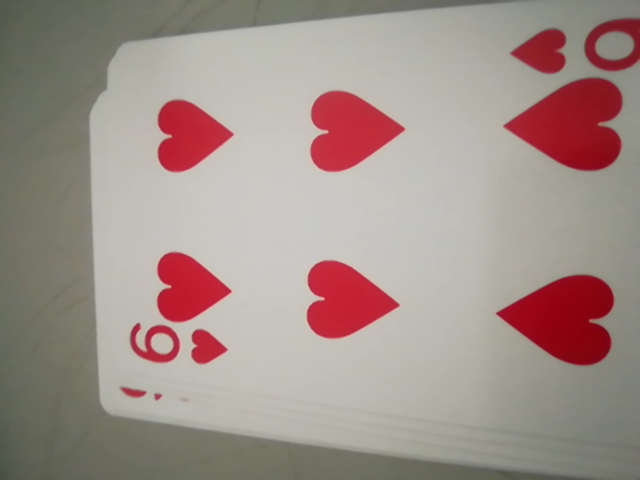hx 6: (126, 318, 233, 369)
